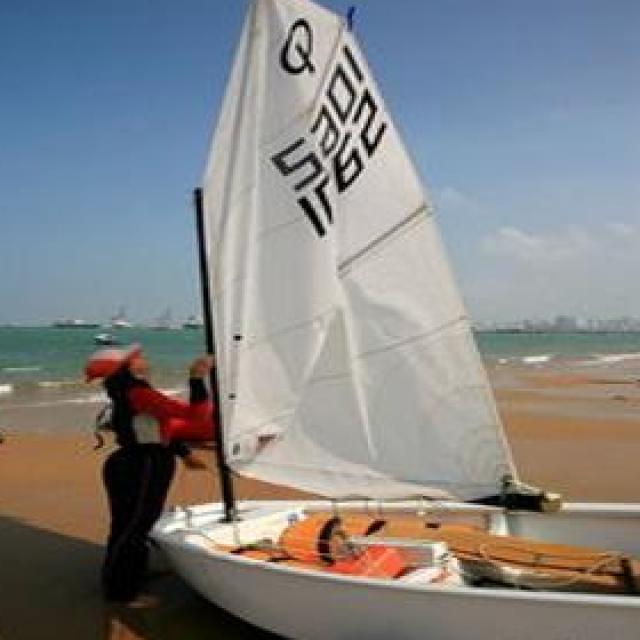sailboat: (139, 0, 640, 640)
